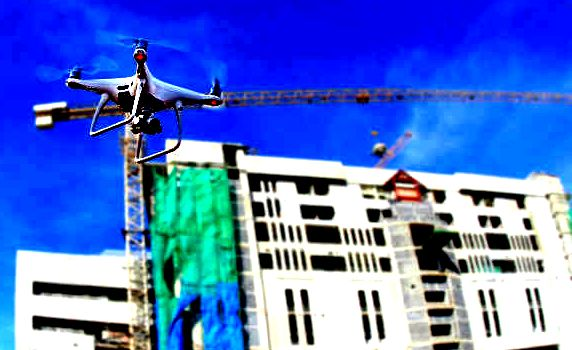Drone: (37, 27, 232, 164)
